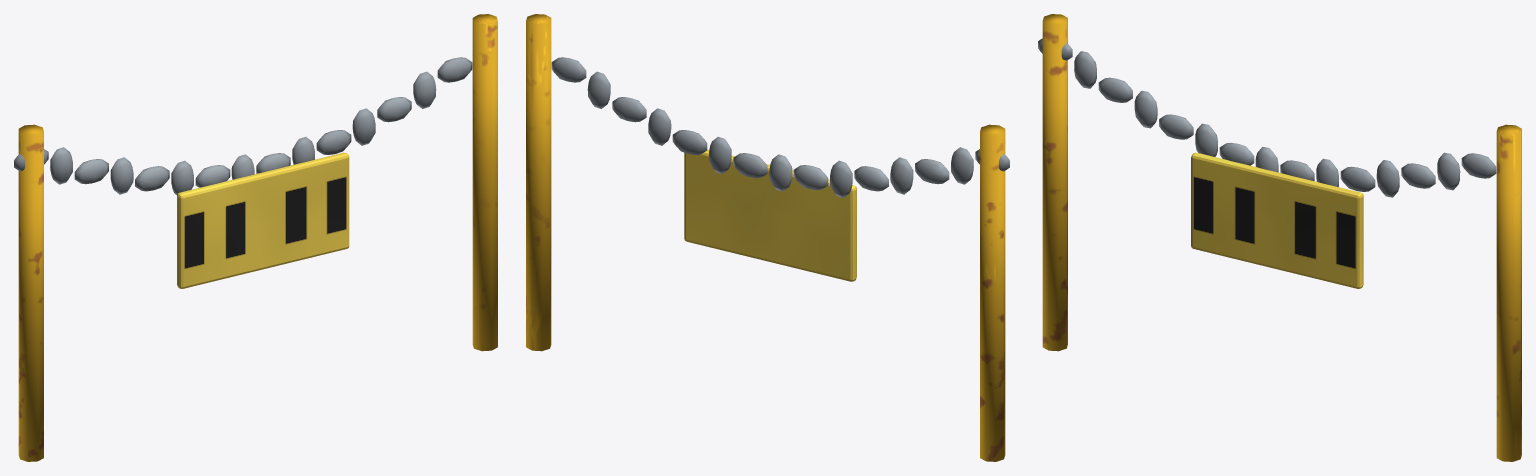
The model's file is bunker_chain.glb.
3 views of the same model, side by side, from view 1: azimuth 30°, elevation 25°; view 2: azimuth 150°, elevation 25°; view 3: azimuth 330°, elevation 25° (orthographic).
Parts seen in each view (by area): view 1: Chain; view 2: Chain; view 3: Chain.
Part boxes in pixels (left/top/right/bottom): Chain: left=14, top=14, right=497, bottom=461; Chain: left=526, top=14, right=1009, bottom=461; Chain: left=1038, top=14, right=1521, bottom=461.
Size of the model in its own units: 1.7 by 1.1 by 0.085.
1 material, 1 textured.
